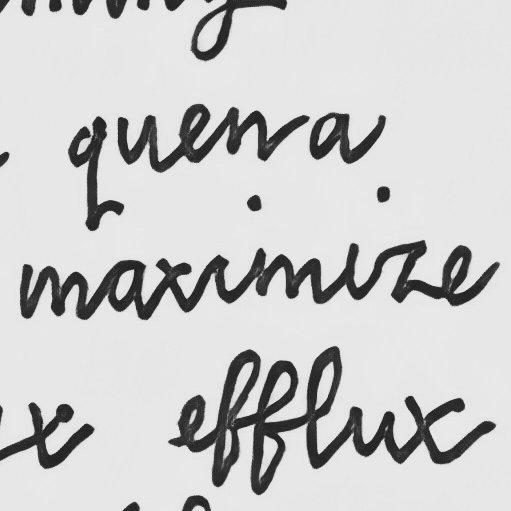a: (104, 258, 148, 318)
e: (438, 242, 475, 308)
i: (335, 240, 363, 301), (203, 250, 233, 306)
m: (249, 245, 326, 304), (17, 261, 89, 321)
x: (152, 256, 196, 315)
z: (374, 238, 429, 304)
